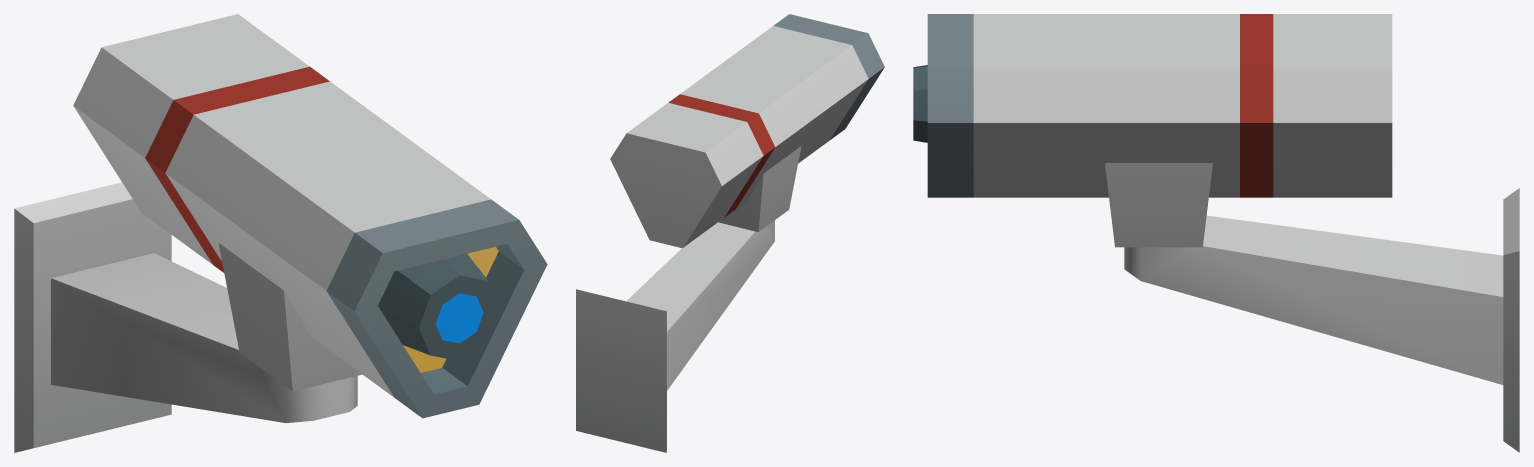
Rendered from Security_cam_007.glb.
3 renders of one model, left to right at view 1: azimuth 30°, elevation 25°; view 2: azimuth 150°, elevation 25°; view 3: azimuth 270°, elevation 25°, orthographic. The views are drawn at different scales.
Parts seen in each view (by area): view 1: Cam_007, Security_cam_007; view 2: Cam_007, Security_cam_007; view 3: Cam_007, Security_cam_007.
Part boxes in pixels (left/top/right/bottom): Cam_007: left=73, top=14, right=547, bottom=418; Security_cam_007: left=14, top=182, right=357, bottom=452; Cam_007: left=610, top=14, right=884, bottom=248; Security_cam_007: left=576, top=220, right=774, bottom=452; Cam_007: left=913, top=14, right=1392, bottom=247; Security_cam_007: left=1124, top=188, right=1519, bottom=452.
Bounding box in the file's own units: 0.1489 × 0.3386 × 0.49.
2 materials, 2 textured.
